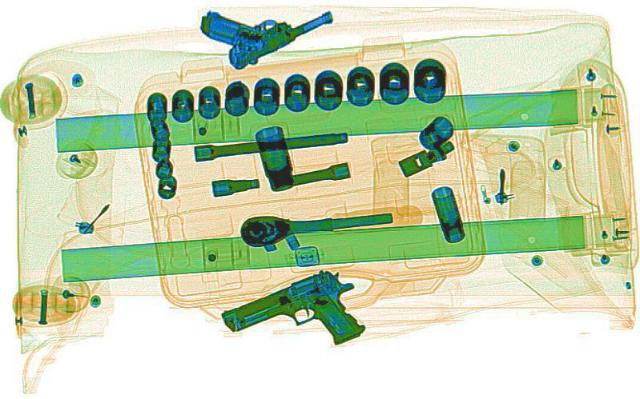Gun: (209, 265, 399, 367), (196, 0, 349, 71)
